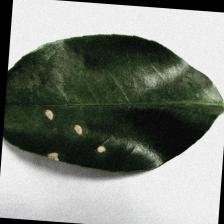canker: (41, 106, 115, 172)
